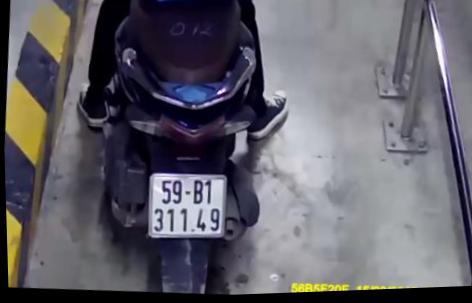LP: (142, 169, 229, 246)
